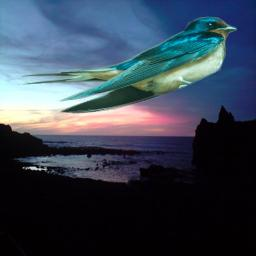Swallow: (18, 16, 237, 115)
